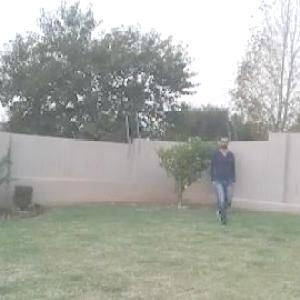follow: (208, 133, 235, 227)
